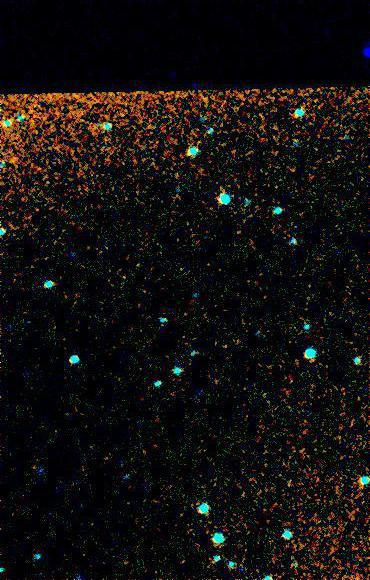star: (0, 144, 29, 174)
